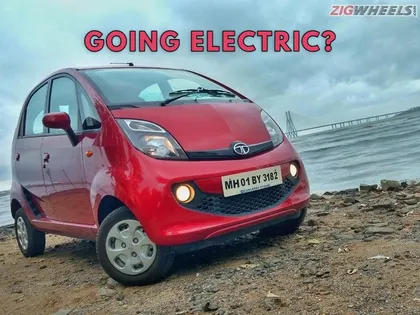Nano: (4, 63, 310, 288)
